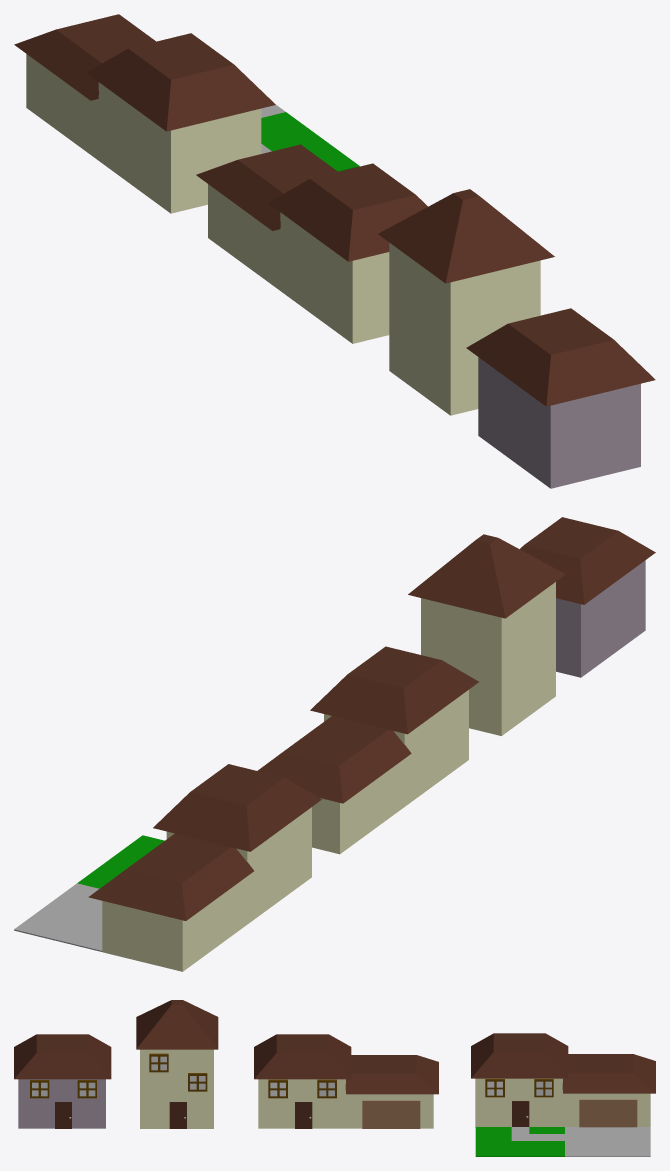
The model's file is HouseModels(4).fbx.
The picture shows the model from 3 angles, top to bottom: view 1: azimuth 30°, elevation 25°; view 2: azimuth 150°, elevation 25°; view 3: azimuth 270°, elevation 25°; orthographic projection. The views are drawn at different scales.
Visible parts, largest first — view 1: pCube53, pCube50, pCube52, pCube51; view 2: pCube53, pCube50, pCube52, pCube51; view 3: pCube53, pCube50, pCube52, pCube51.
Boxes of the visible parts, box(x1,y1,x2,y2) form: pCube53: box(14, 14, 359, 213); pCube50: box(196, 144, 427, 343); pCube52: box(378, 189, 554, 415); pCube51: box(466, 308, 655, 488); pCube53: box(14, 764, 321, 971); pCube50: box(257, 646, 478, 854); pCube52: box(408, 534, 565, 735); pCube51: box(520, 517, 655, 677); pCube53: box(471, 1033, 655, 1156); pCube50: box(254, 1034, 438, 1128); pCube52: box(136, 1000, 218, 1128); pCube51: box(14, 1034, 111, 1128).
Size of the model in its own units: 5.05 by 4.58 by 23.49.
